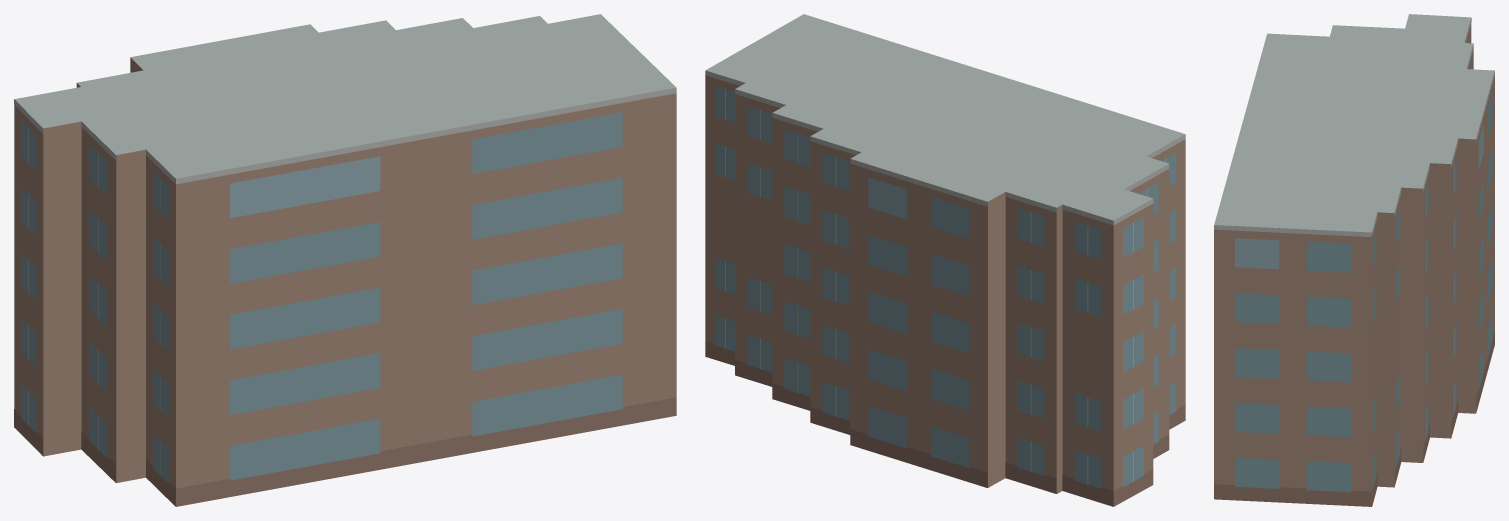
File: survey-upis-32915688.glb
3 renders of one model, left to right at view 1: azimuth 30°, elevation 25°; view 2: azimuth 150°, elevation 25°; view 3: azimuth 270°, elevation 25°, orthographic. The views are drawn at different scales.
Visible parts, largest first — view 1: survey-upis-32915688.tmp; view 2: survey-upis-32915688.tmp; view 3: survey-upis-32915688.tmp.
Part boxes in pixels (<box>): survey-upis-32915688.tmp: <box>14,14,676,506</box>; survey-upis-32915688.tmp: <box>705,14,1185,506</box>; survey-upis-32915688.tmp: <box>1214,14,1494,506</box>.
Size of the model in its own units: 24.61 by 14.4 by 13.37.
